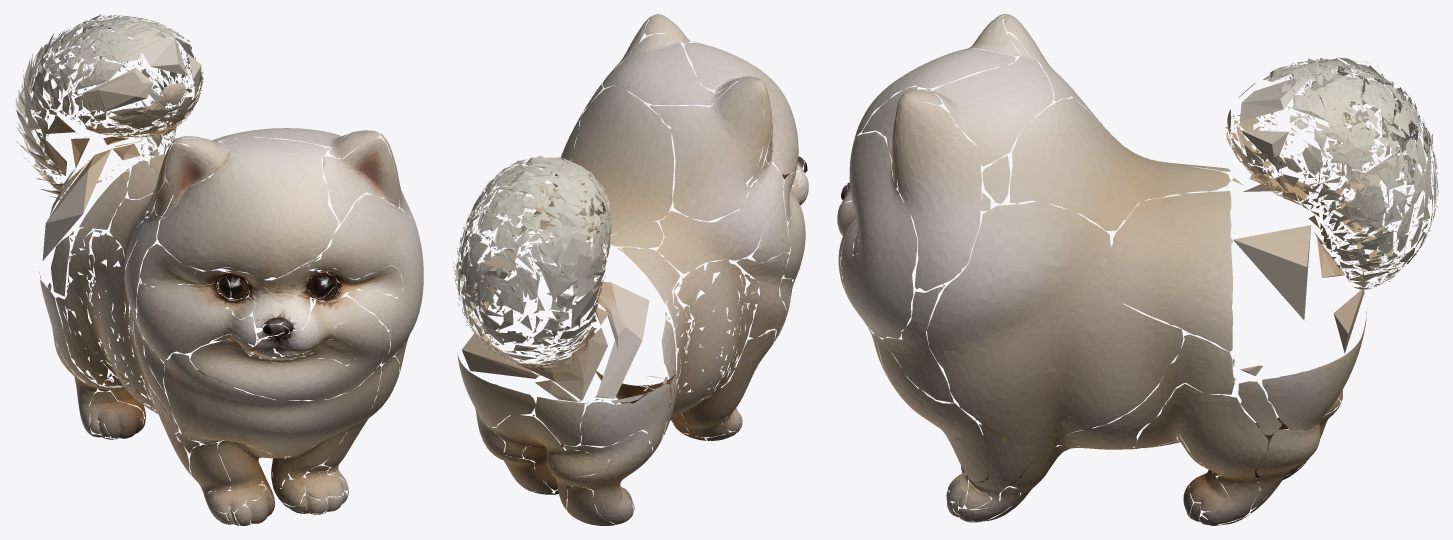
The model's file is pet_white.glb.
3 views of the same model, side by side, from view 1: azimuth 30°, elevation 25°; view 2: azimuth 150°, elevation 25°; view 3: azimuth 270°, elevation 25° (orthographic). The views are drawn at different scales.
Visible parts, largest first — view 1: white; view 2: white; view 3: white.
Boxes of the visible parts, <box> form: white: <box>15,14,423,525</box>; white: <box>453,14,808,525</box>; white: <box>837,14,1438,525</box>.
Size of the model in its own units: 0.6805 by 1 by 1.27.
Materials: 1 (1 with a texture image).
